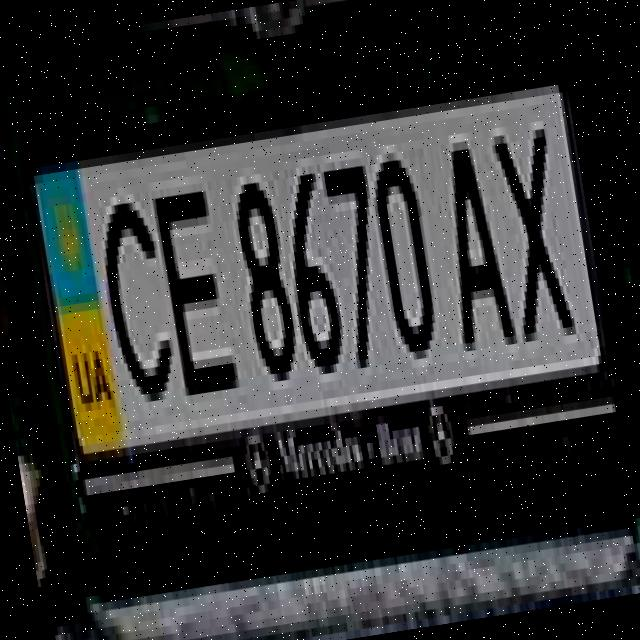Autre: (17, 53, 634, 534)
